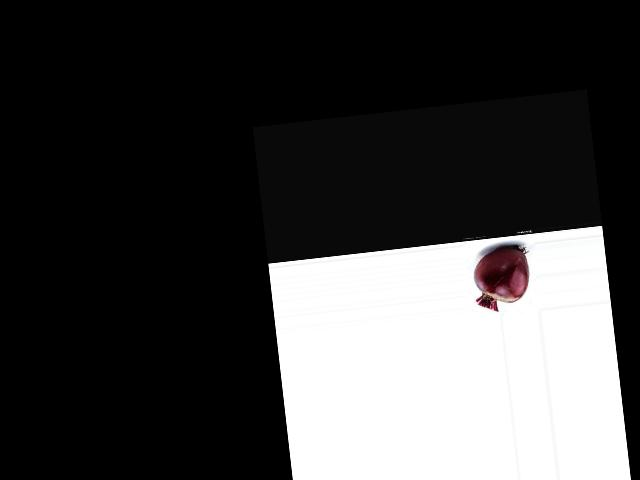beet: (470, 245, 532, 313)
